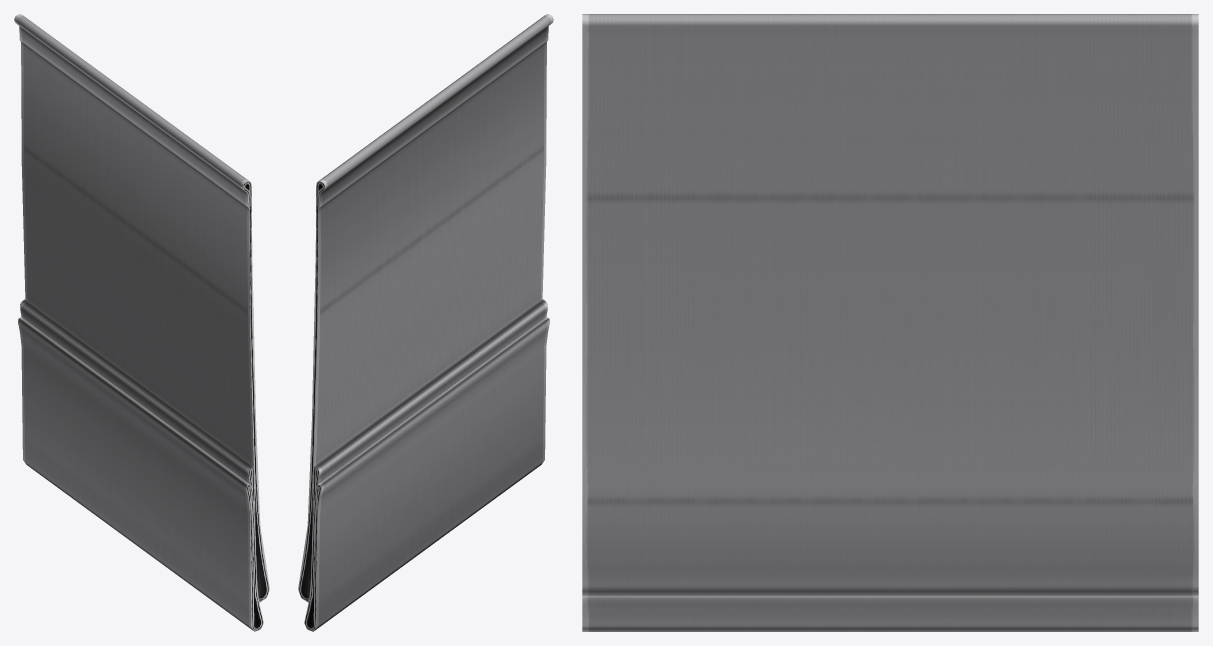
File: Curtain02A.FBX
The picture shows the model from 3 angles, left to right: view 1: azimuth 30°, elevation 25°; view 2: azimuth 150°, elevation 25°; view 3: azimuth 270°, elevation 25°; orthographic projection. The views are drawn at different scales.
Parts seen in each view (by area): view 1: Curtain02A; view 2: Curtain02A; view 3: Curtain02A.
Part boxes in pixels (x1=…): Curtain02A: x1=14, y1=14, x2=269, y2=631; Curtain02A: x1=298, y1=14, x2=553, y2=631; Curtain02A: x1=582, y1=14, x2=1198, y2=631.
Bounding box in the file's own units: 4.91 × 71.45 × 78.02.
